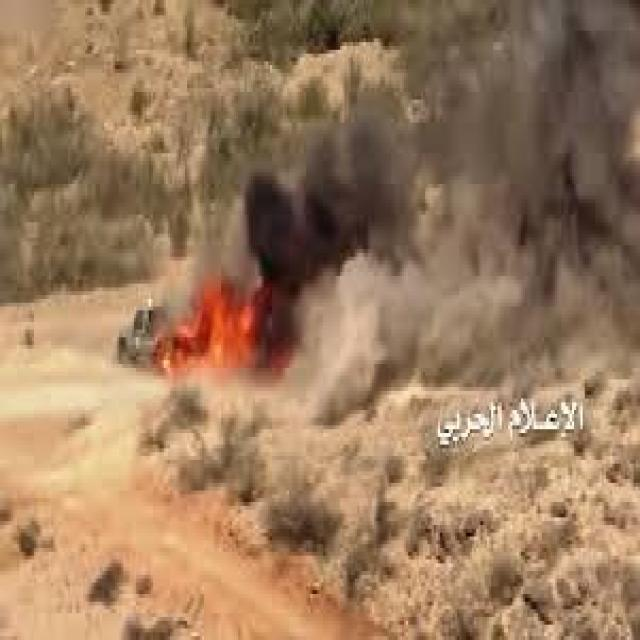fire: (166, 272, 282, 374)
smoke: (247, 131, 565, 349)
